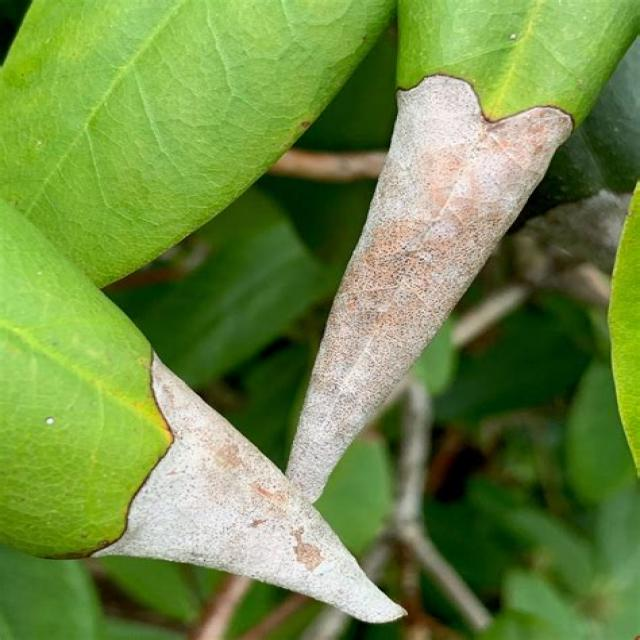blight: (326, 52, 594, 331), (81, 288, 292, 592)
